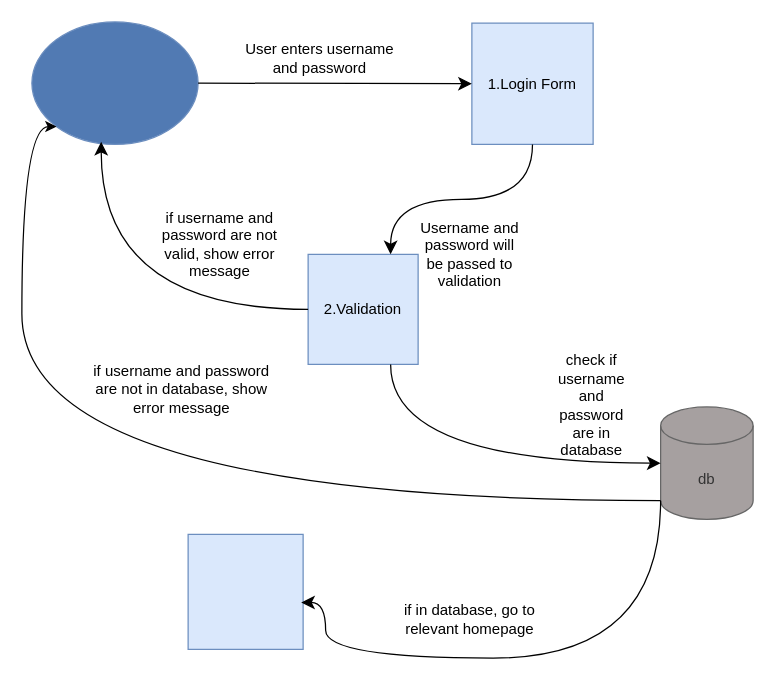
The diagram is 775 pixels wide and 680 high, and some of its shapes have lost their labels. Here are the shapes that lost their labels. From the top down, the centre of each, then its label:
the point at 114,82: USER
the point at 245,591: 3.Main Menu
